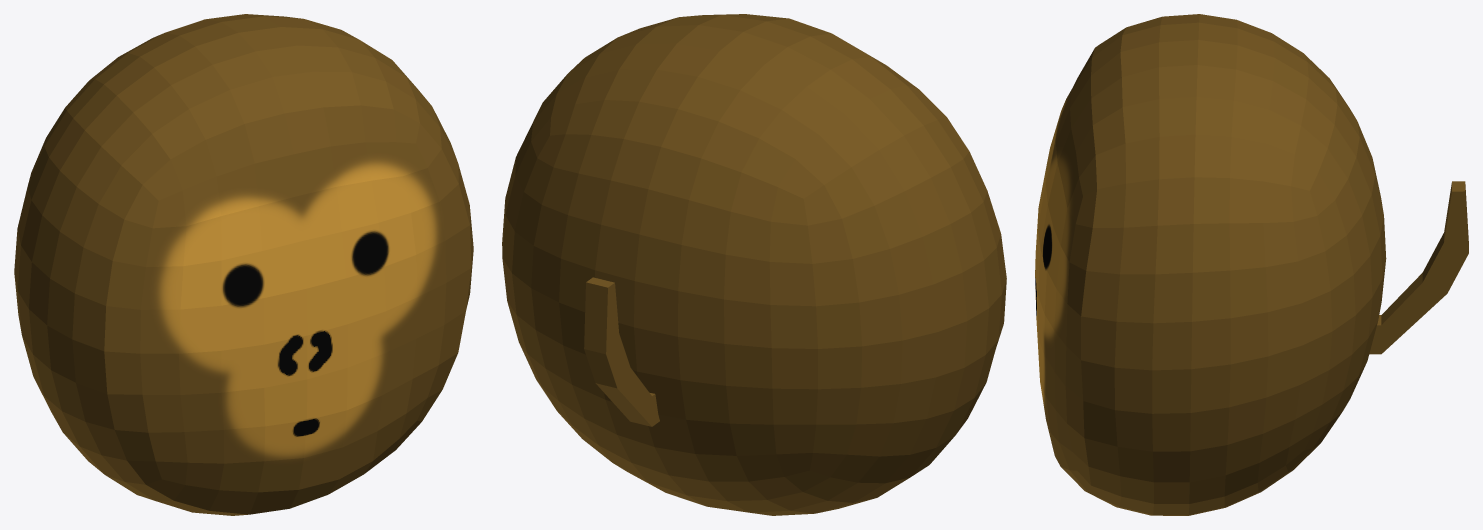
Rendered from monke.glb.
The picture shows the model from 3 angles, left to right: view 1: azimuth 30°, elevation 25°; view 2: azimuth 150°, elevation 25°; view 3: azimuth 270°, elevation 25°; orthographic projection. The views are drawn at different scales.
Parts seen in each view (by area): view 1: Torso; view 2: Torso; view 3: Torso.
Boxes of the visible parts, box(x1,y1,x2,y2) form: Torso: box(14, 14, 473, 515); Torso: box(502, 14, 1006, 515); Torso: box(1035, 14, 1468, 515).
Bounding box in the file's own units: 1.99 × 2.04 × 1.77.
2 materials, 2 textured.
